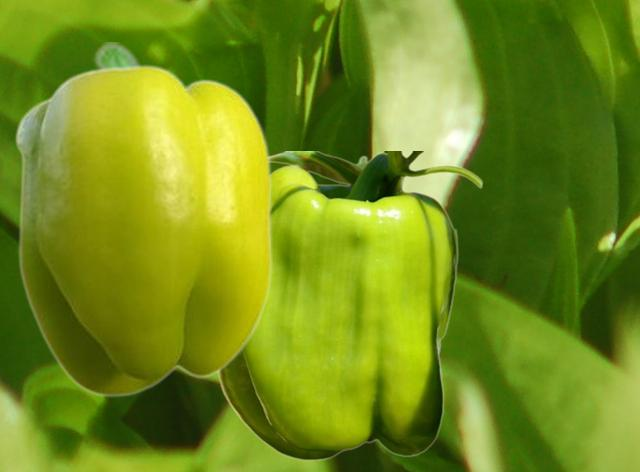bell_pepper: (14, 63, 271, 396), (216, 151, 482, 460), (85, 42, 146, 67)
